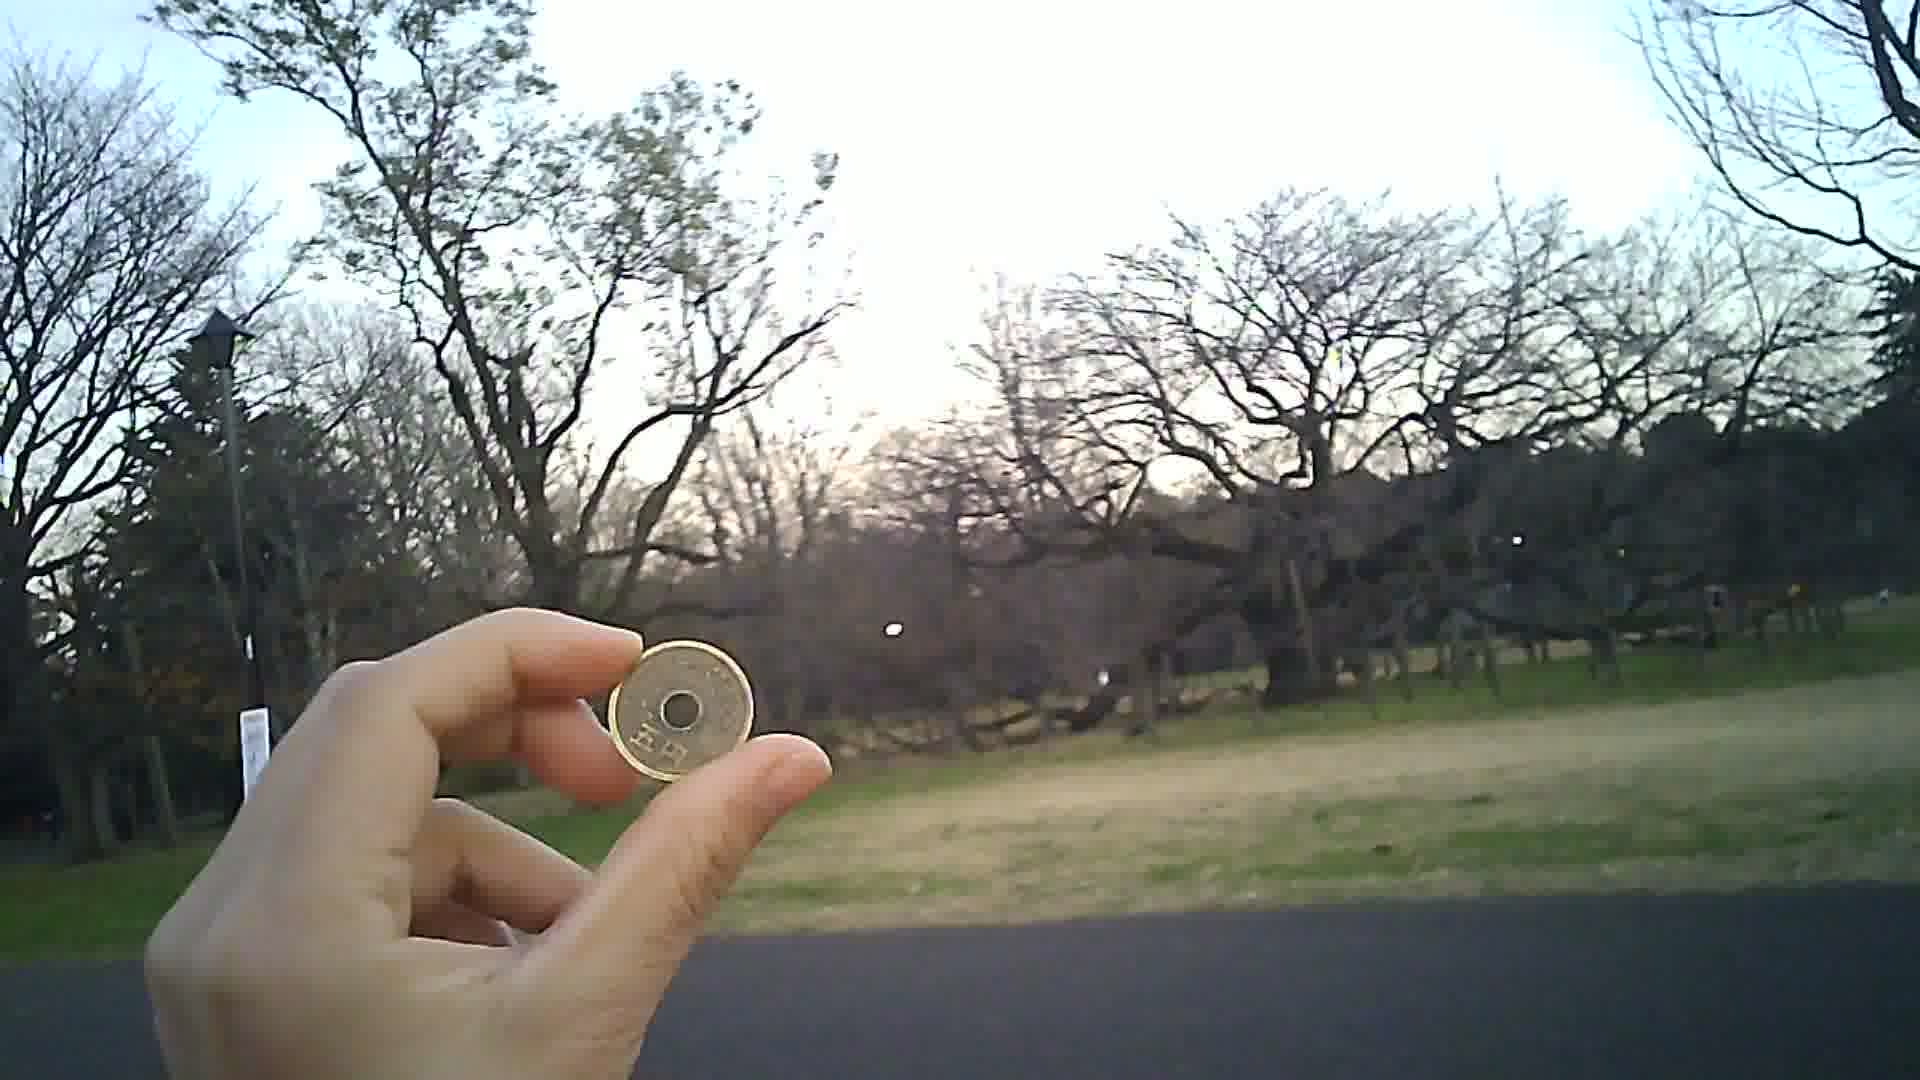5 Yen: (607, 630, 760, 787)
